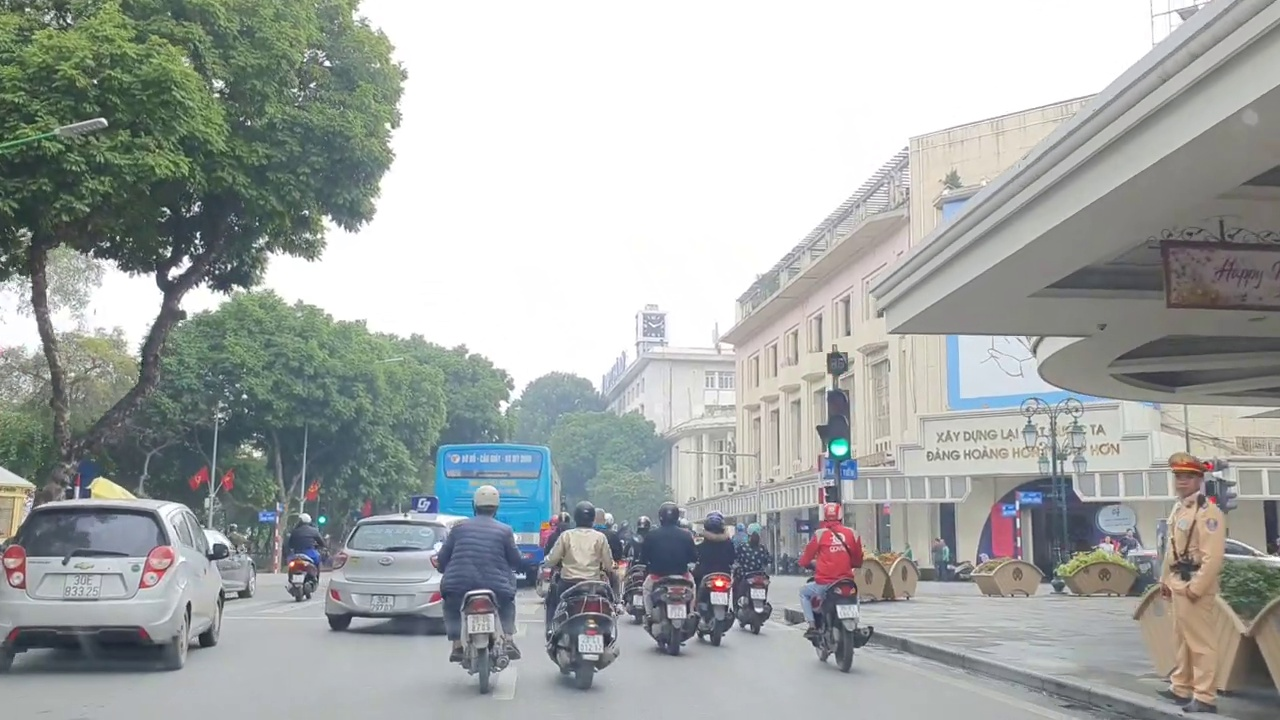person: (574, 633, 608, 655), (370, 591, 398, 614), (467, 612, 496, 633), (705, 589, 736, 607), (745, 585, 769, 602), (666, 602, 687, 621)
